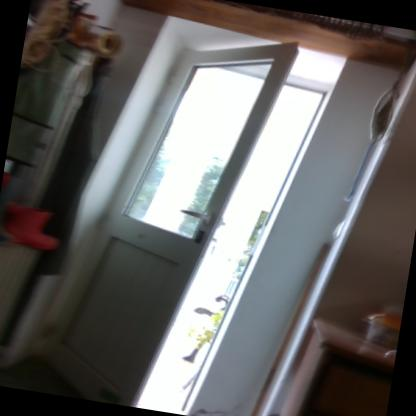semi: (62, 9, 347, 415)
